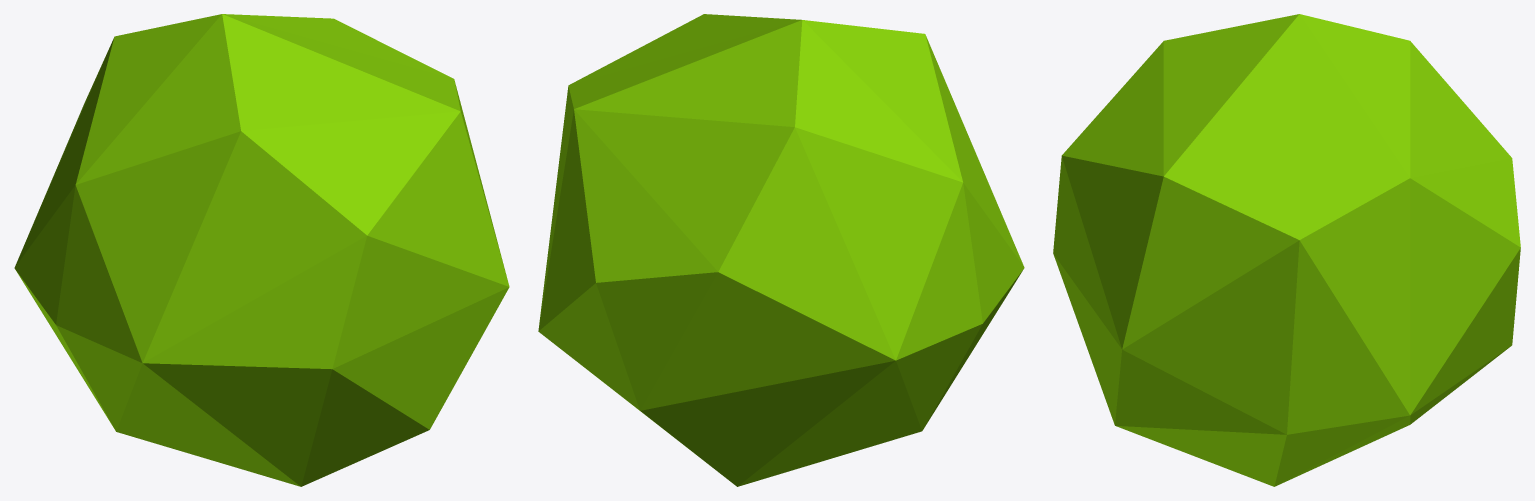
Rendered from Bush1.fbx.
3 renders of one model, left to right at view 1: azimuth 30°, elevation 25°; view 2: azimuth 150°, elevation 25°; view 3: azimuth 270°, elevation 25°, orthographic. The views are drawn at different scales.
Visible parts, largest first — view 1: Bush1; view 2: Bush1; view 3: Bush1.
Boxes of the visible parts, bbox=[...] form: Bush1: bbox=[14, 14, 509, 486]; Bush1: bbox=[538, 14, 1024, 486]; Bush1: bbox=[1053, 14, 1520, 486].
Size of the model in its own units: 0.288 by 0.3101 by 0.2994.
